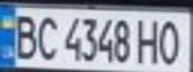3: (78, 14, 100, 62)
4: (60, 12, 81, 62), (96, 15, 115, 63)
8: (112, 15, 136, 64)
B: (9, 10, 39, 61)
C: (33, 12, 60, 62)
H: (133, 15, 163, 65)
O: (154, 16, 187, 66)
